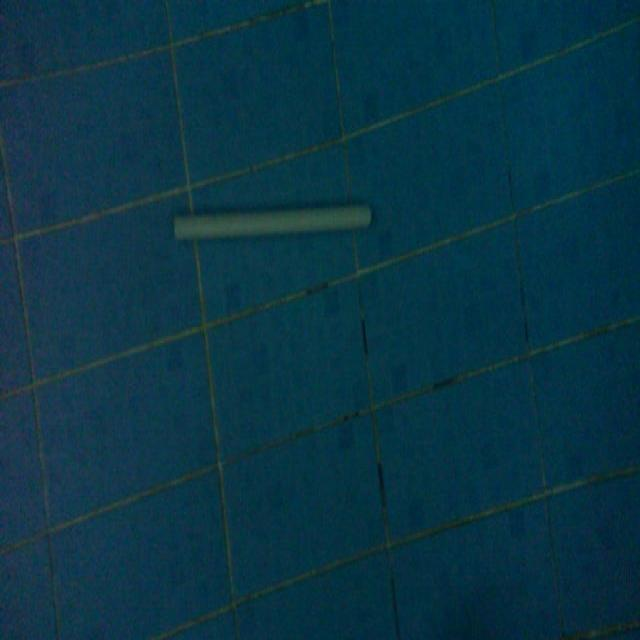Cube: (171, 198, 374, 245)
